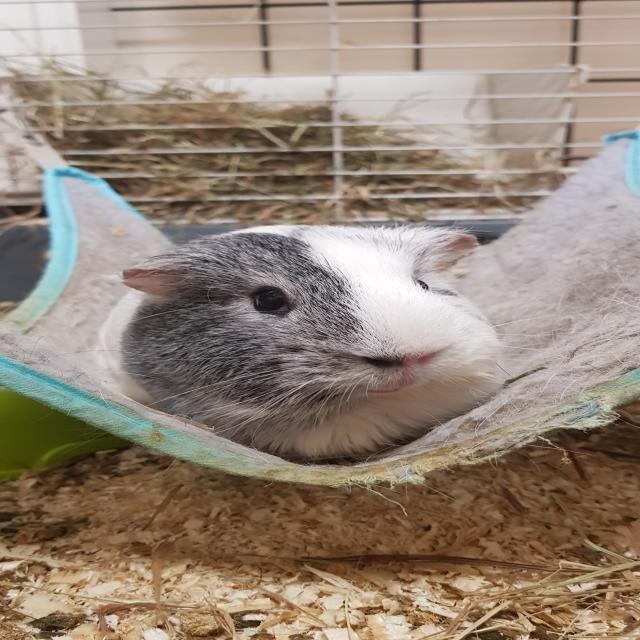guinea pig: (80, 220, 511, 468)
